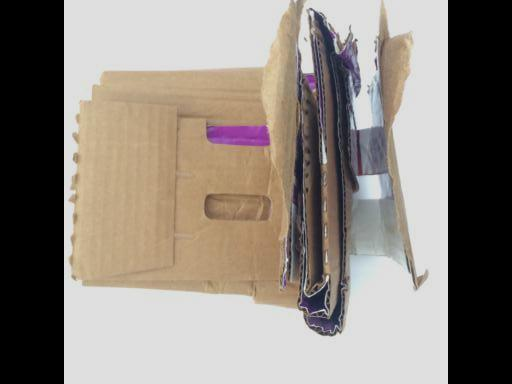paper: (67, 4, 419, 337)
